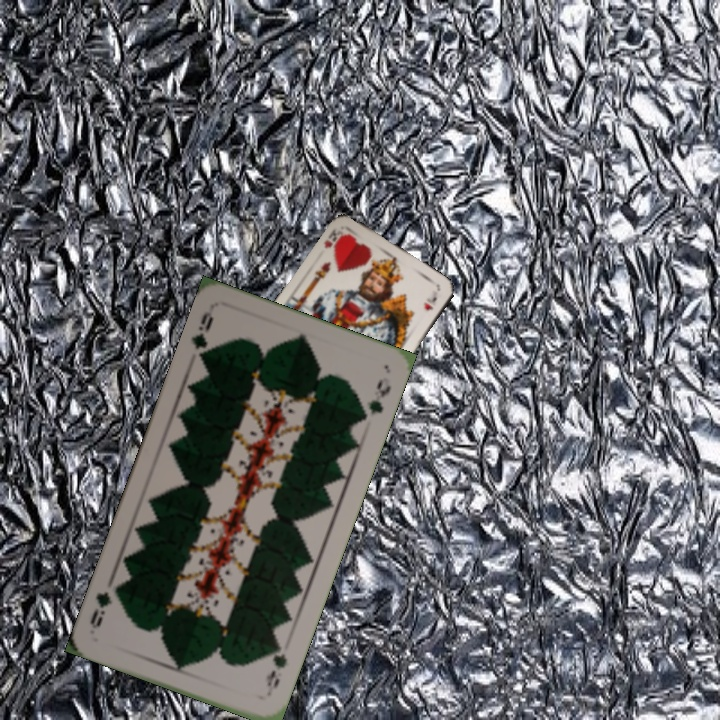G9: (187, 305, 216, 365), (262, 639, 290, 699)
HK: (320, 224, 348, 255)
